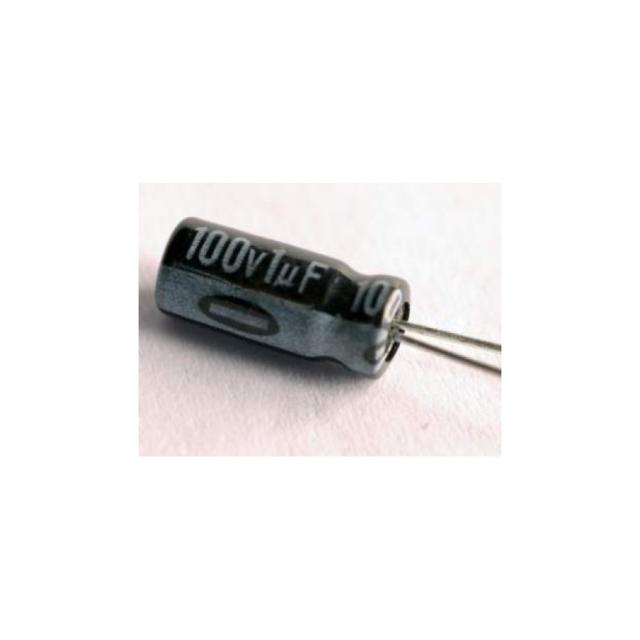Capacitor: (155, 217, 498, 379)
